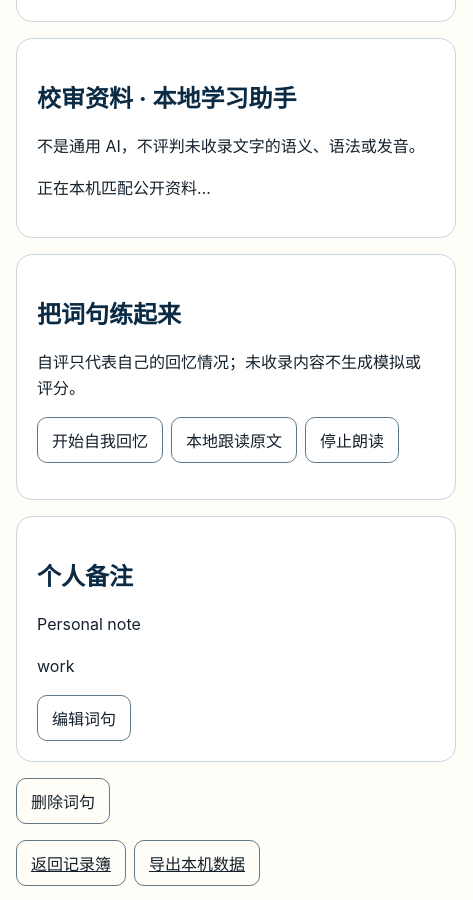
Test: never substitutes a remote voice in the actual note entrance
(page scrolled)
Click the button "本地跟读原文".
click(234, 440)  # box left=171, top=418, right=297, bottom=464
(page scrolled)
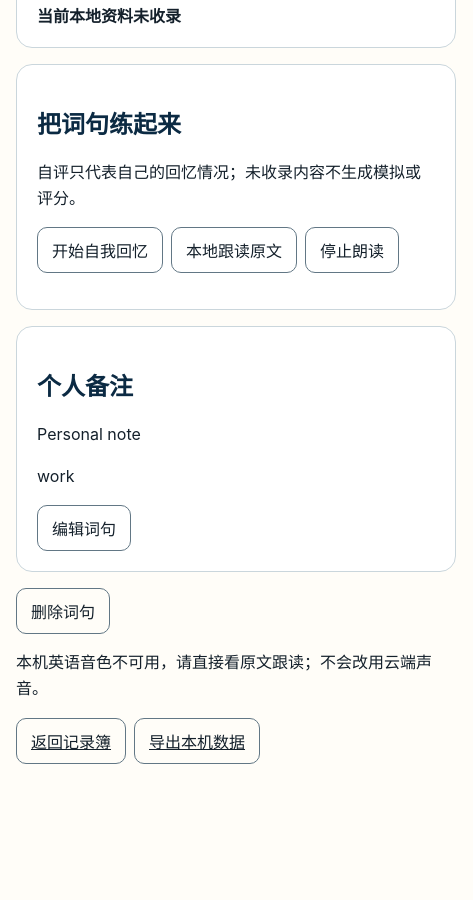
expect the message shows "不会改用云端声音": met, box left=16, top=652, right=432, bottom=698
